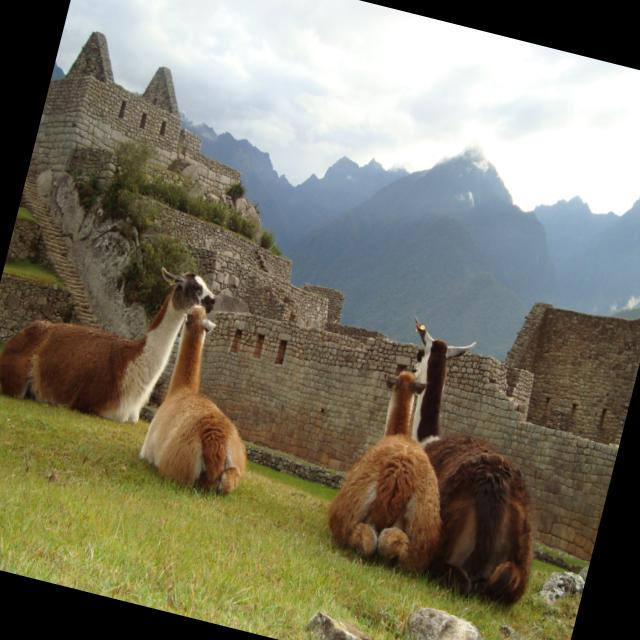alpaca: (353, 320, 582, 608), (0, 227, 222, 436), (321, 361, 477, 576), (134, 298, 282, 501)
